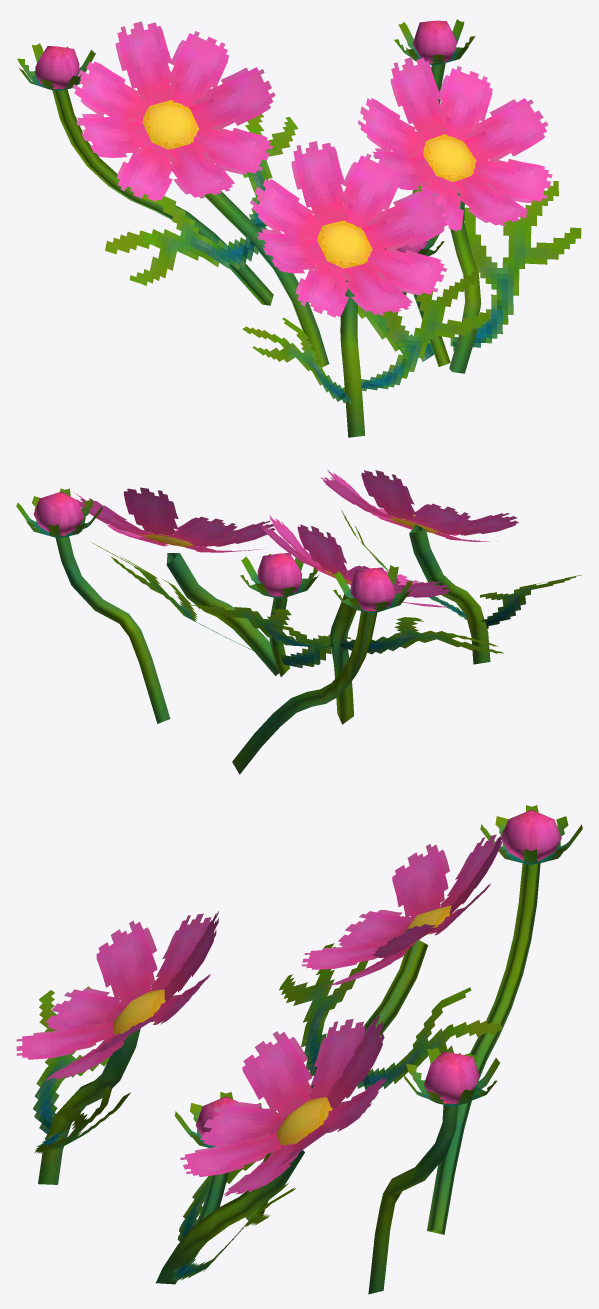
The model's file is pink-cosmos.glb.
3 renders of one model, top to bottom at view 1: azimuth 30°, elevation 25°; view 2: azimuth 150°, elevation 25°; view 3: azimuth 270°, elevation 25°, orthographic. The views are drawn at different scales.
Bounding box in the file's own units: 10.23 × 6.53 × 9.6.
2 materials, 2 textured.
